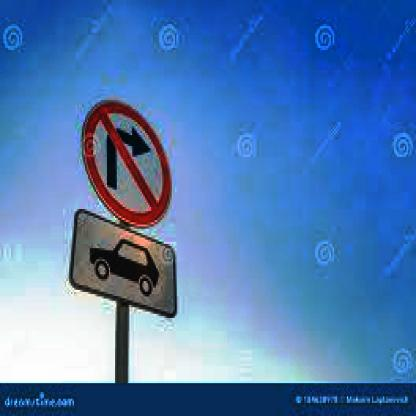No right turn: (80, 94, 173, 228)
